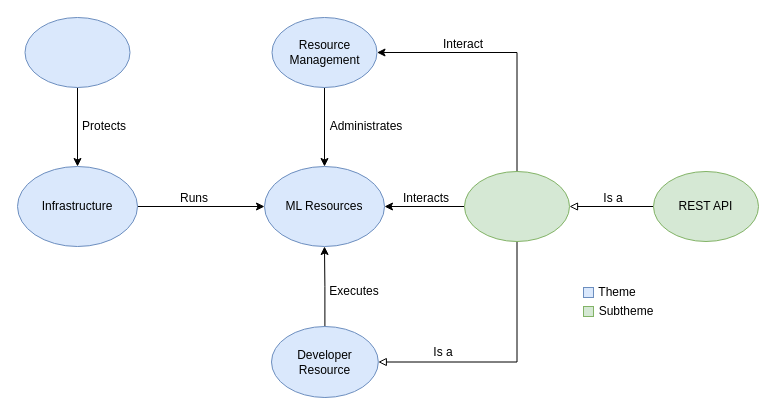
The diagram is 776 pixels wide and 415 high, and some of its shapes have lost their labels. The centre of each missing label's shape, as x and y in pixels:
"Interface" goes at pixel 517 206.
"Security" goes at pixel 77 52.
